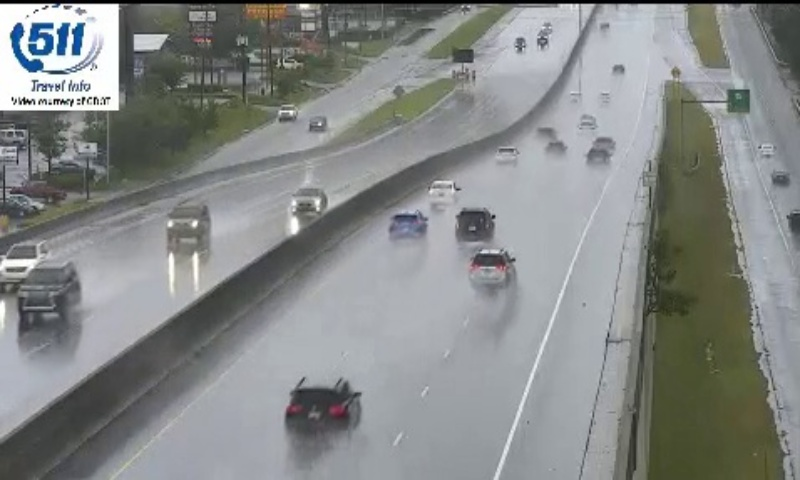car: (286, 375, 361, 428), (468, 247, 515, 287), (455, 207, 492, 240), (389, 211, 426, 241), (426, 179, 455, 207), (586, 144, 611, 165), (493, 144, 520, 163)
